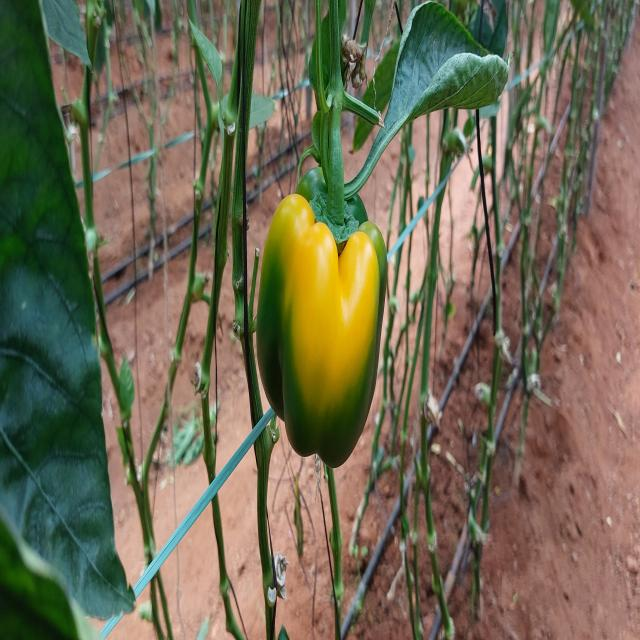GreenishYellow--Can-be-Harvested: (241, 157, 394, 456)
